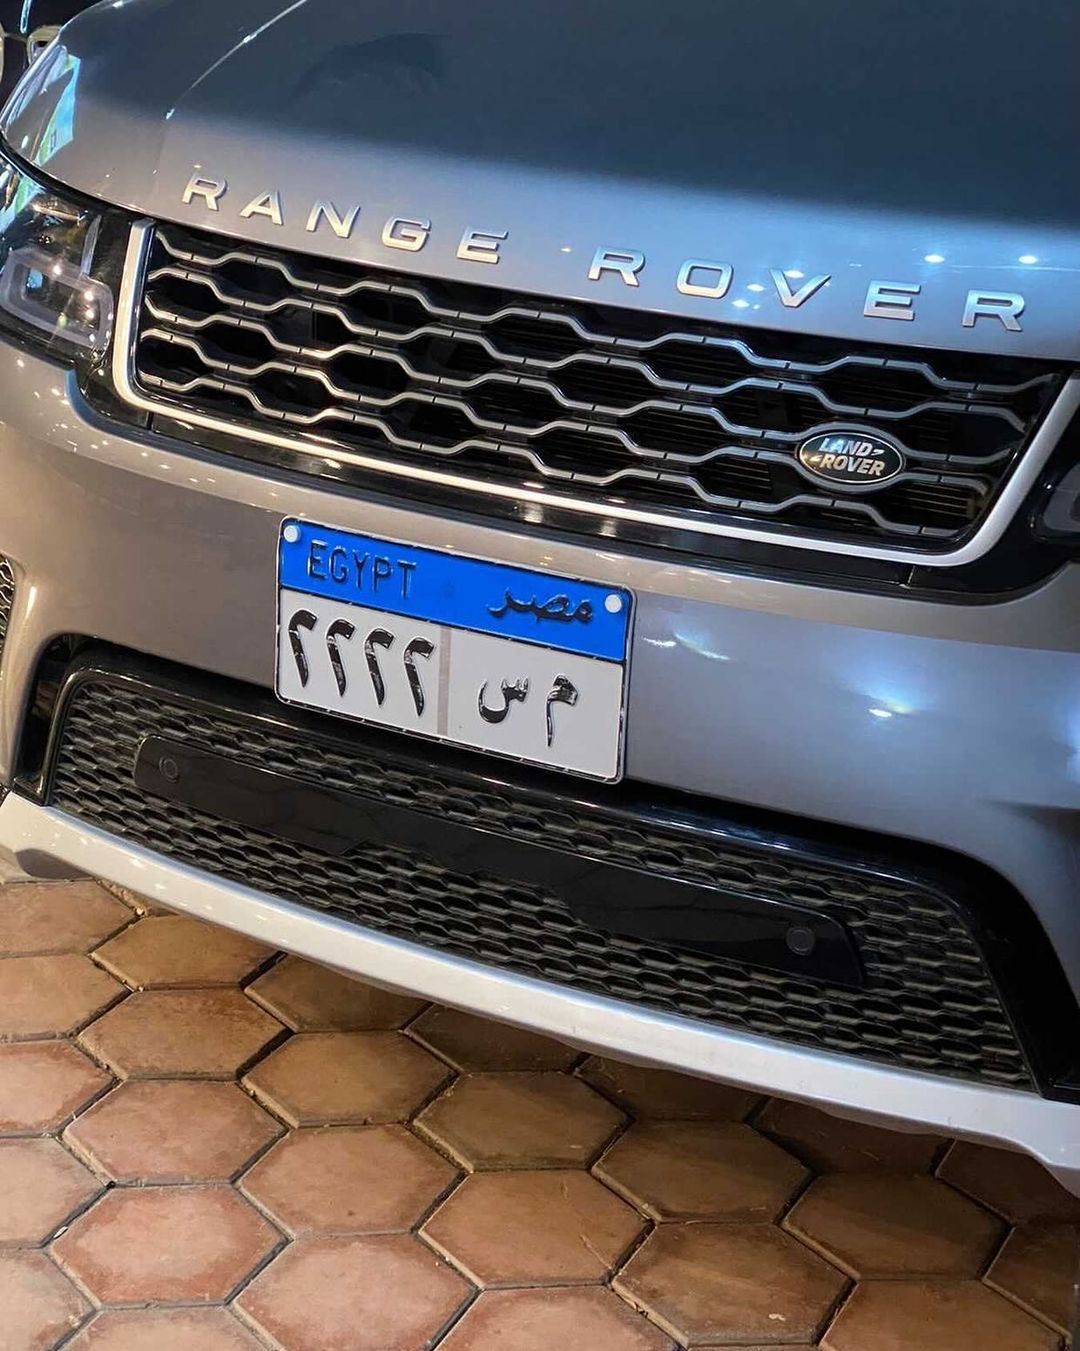carpl: (240, 502, 643, 779)
